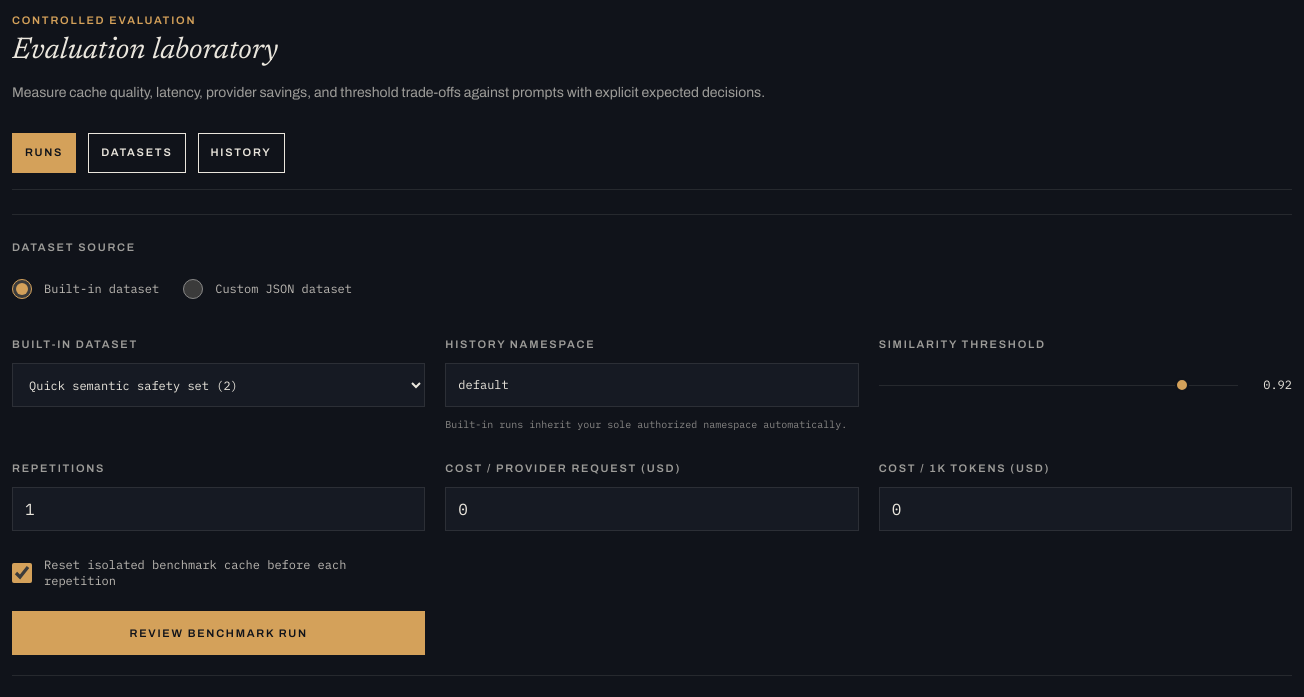
Test case: BenchmarkDashboard › shows the session-only fallback without saving during validation
The width and height of the screenshot is (1304, 697).
Expected: the button "Review benchmark run" is shown, [12, 611, 425, 655]
Click the button "Datasets" at point(137, 152), box [88, 132, 186, 172]
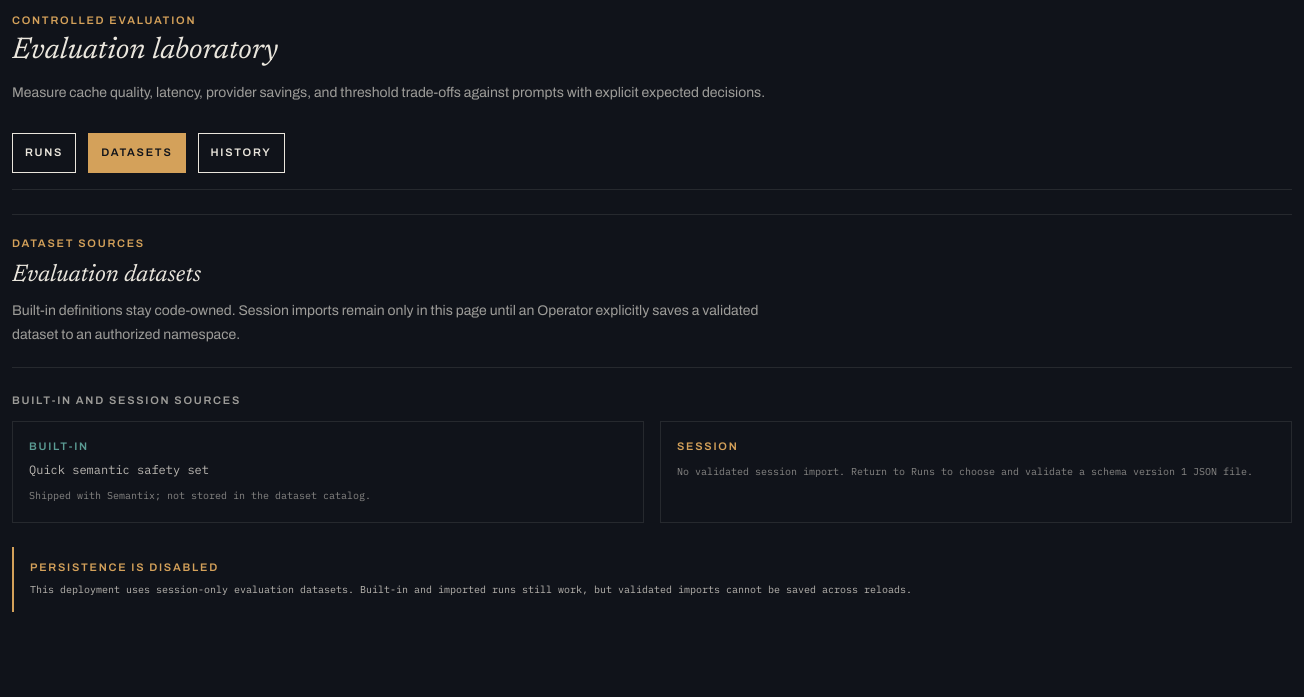
Expected: the text "Persistence is disabled" is shown, [30, 561, 219, 573]
Expected: the text "session-only evaluation datasets" is shown, [30, 582, 912, 596]
